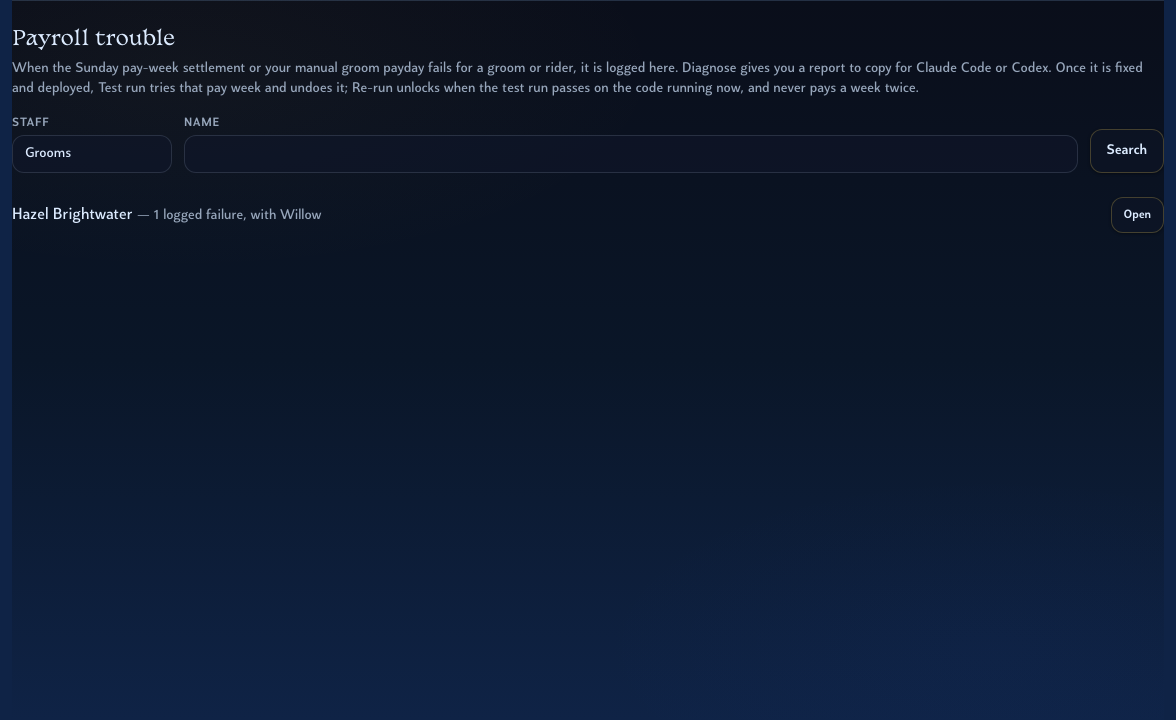
Test: StaffPayrollDiagnostics › Re-run is locked until a test run passes; the test run says what it would do in words
Click the button with aria-label "Open Hazel Brightwater": click(1137, 215) [1111,197,1164,233]
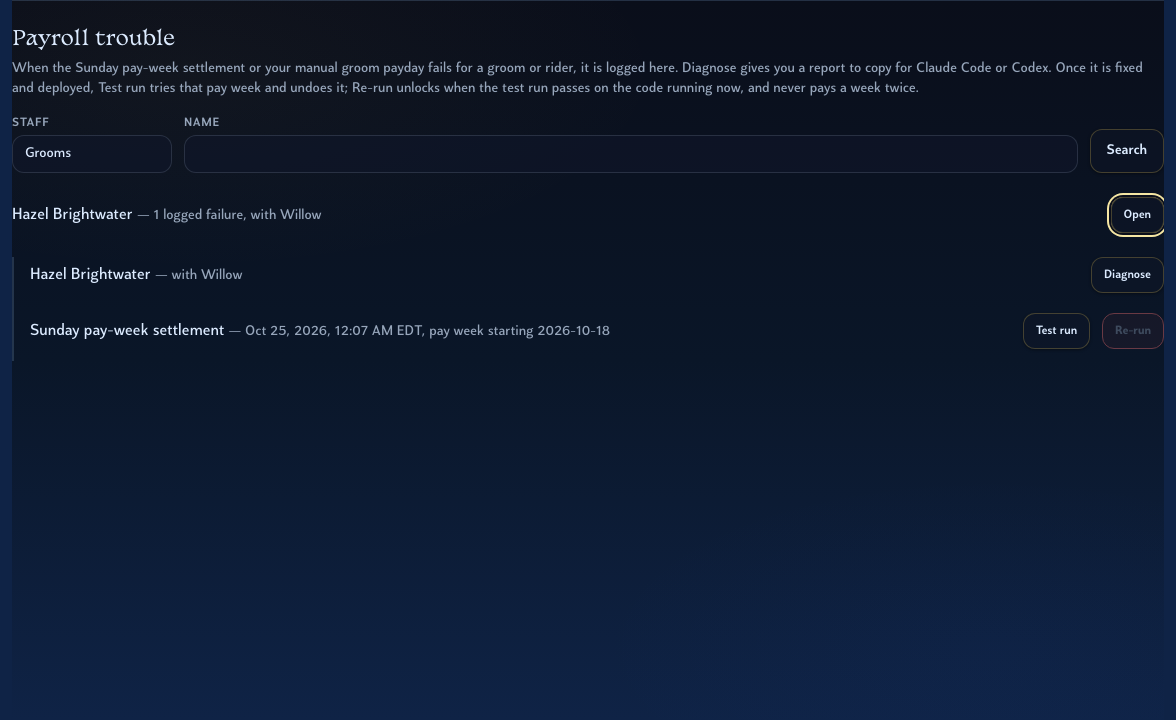
Now the button with aria-label "Re-run the sunday pay-week settlement" is disabled, box [1102,313,1164,349]
Now the text "— Oct 25, 2026, 12:07 AM EDT, pay week starting 2026-10-18" is shown, box [228,324,610,339]
Click the button with aria-label "Test run the sunday pay-week settlement": click(1056, 331) [1023,313,1090,349]
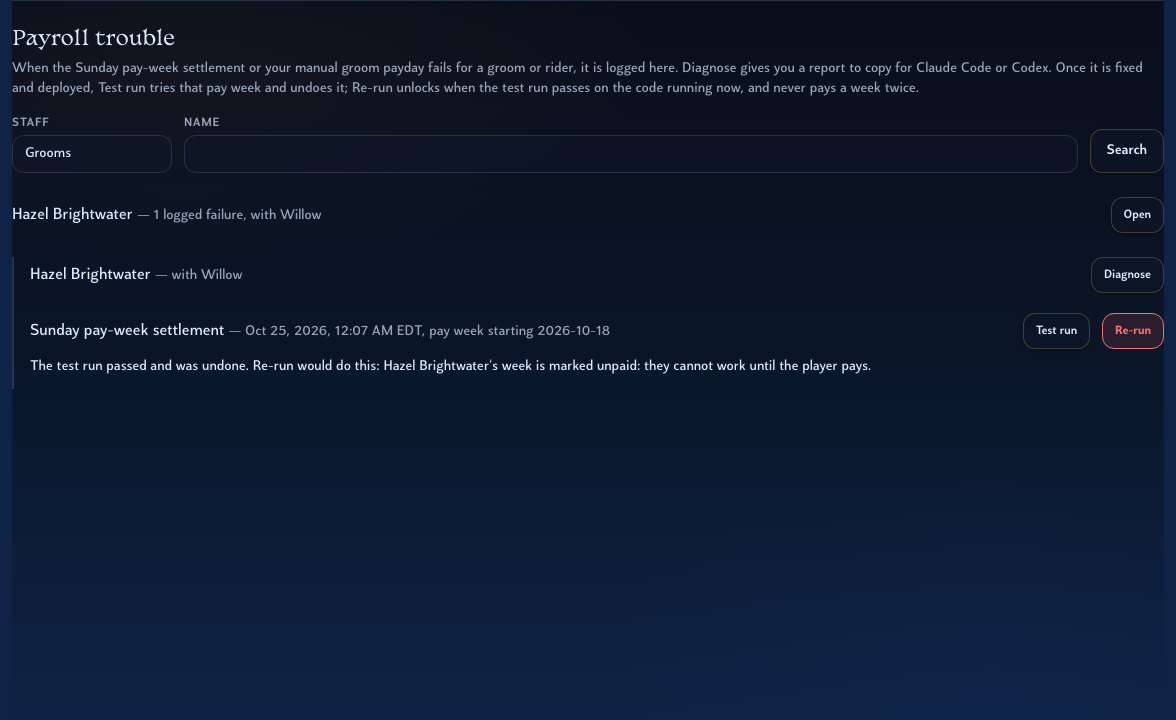
Now the text "Hazel Brightwater's week is marked unpaid: they cannot work" is shown, box [384,359,871,374]
Now the button with aria-label "Re-run the sunday pay-week settlement" is enabled
Click the button with aria-label "Re-run the sunday pay-week settlement": click(1133, 331) [1102,313,1164,349]
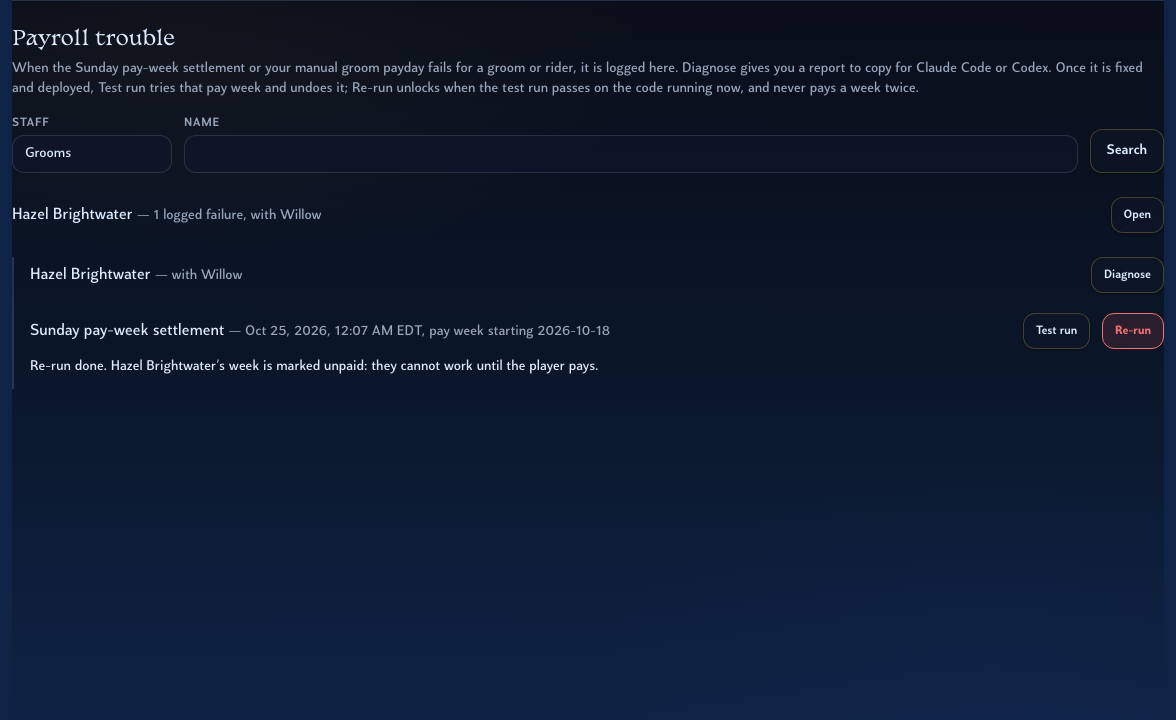
Now the text "Re-run done." is shown, box [30,359,107,374]
